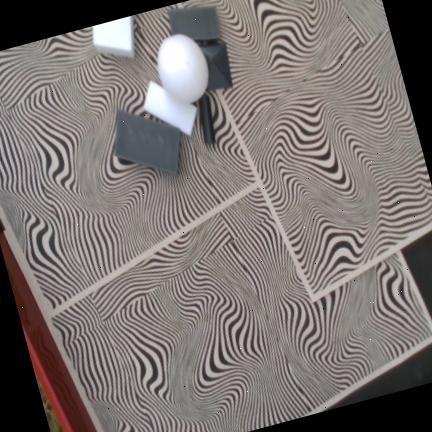Cilindro: (198, 93, 215, 143)
Esfera: (157, 34, 208, 103)
Paralelepipedo: (114, 109, 180, 175), (143, 79, 197, 136), (167, 4, 221, 42), (92, 15, 134, 57)
Piramide: (199, 41, 233, 90)
